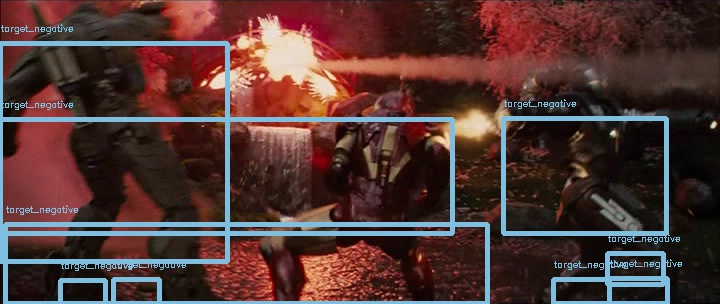person: (369, 86, 411, 123), (368, 86, 410, 123), (370, 86, 412, 123), (369, 85, 411, 122), (369, 87, 411, 124)
target_negative: (477, 15, 664, 149), (464, 72, 637, 175), (177, 110, 427, 139), (414, 30, 432, 229), (620, 251, 645, 274), (458, 279, 467, 299)
